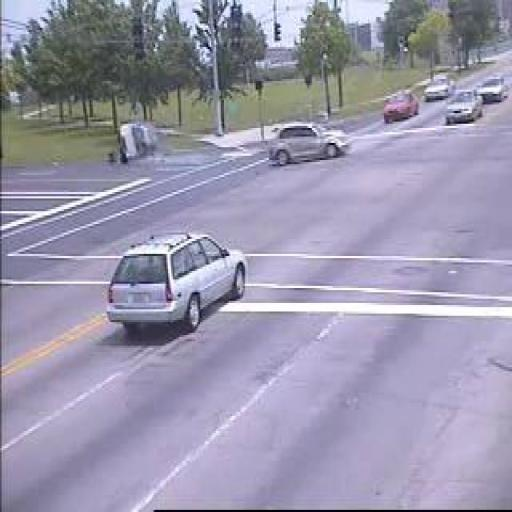Car: (105, 231, 251, 338), (269, 122, 355, 164), (116, 121, 160, 162), (446, 89, 484, 124), (383, 91, 420, 122), (474, 75, 508, 104), (424, 74, 456, 102)
Major Accident: (113, 115, 356, 166)
